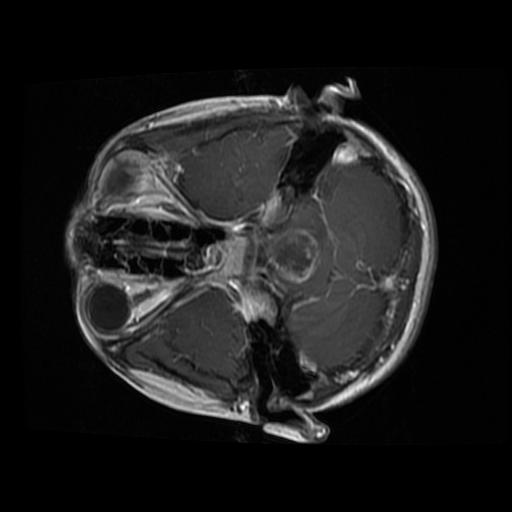glioma: (266, 229, 323, 284)
